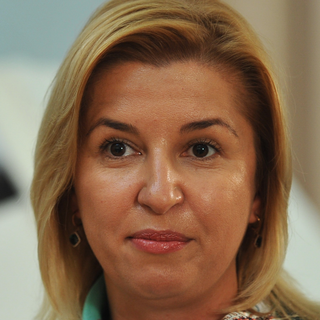eye: (179, 136, 227, 164), (96, 136, 143, 163)
